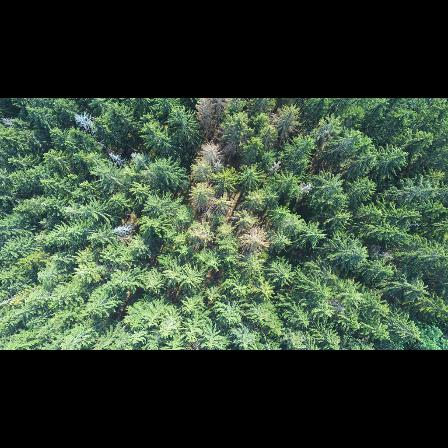Dead: (72, 111, 98, 134), (200, 140, 222, 164), (111, 221, 137, 239), (297, 182, 315, 198), (108, 152, 125, 166), (269, 160, 283, 174)
